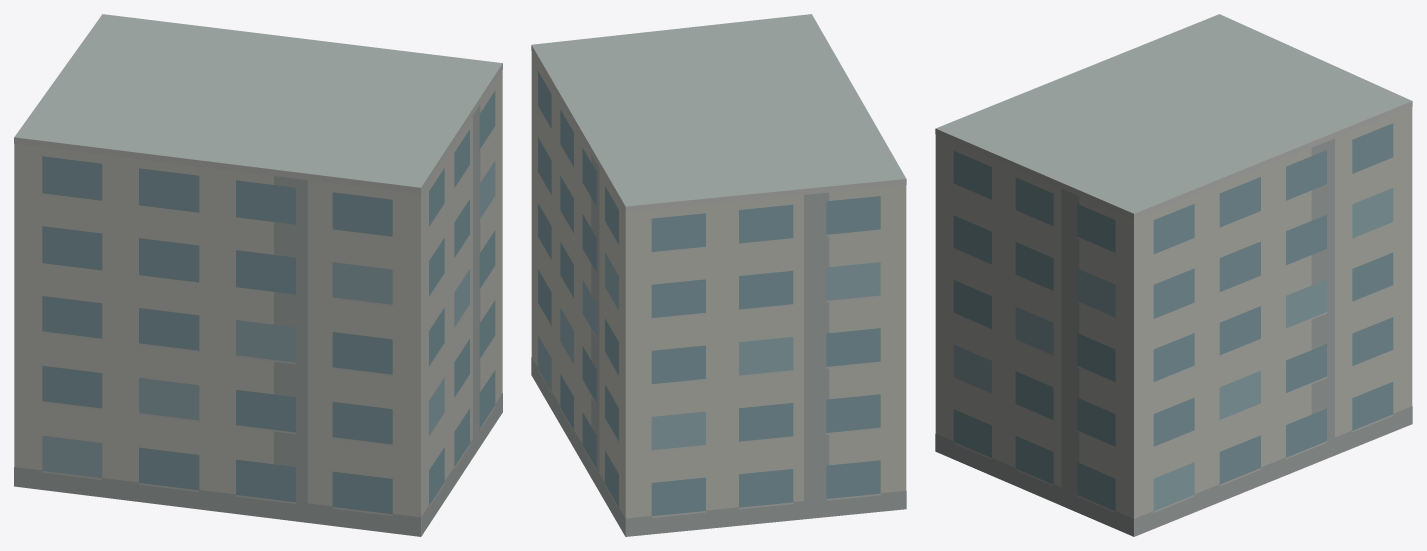
The model's file is survey-upis-32885808.glb.
3 views of the same model, side by side, from view 1: azimuth 30°, elevation 25°; view 2: azimuth 150°, elevation 25°; view 3: azimuth 270°, elevation 25° (orthographic). The views are drawn at different scales.
Parts seen in each view (by area): view 1: survey-upis-32885808.tmp; view 2: survey-upis-32885808.tmp; view 3: survey-upis-32885808.tmp.
Part boxes in pixels (x1,y1,x2,y2): survey-upis-32885808.tmp: (14,14,502,536); survey-upis-32885808.tmp: (531,14,906,536); survey-upis-32885808.tmp: (935,14,1412,536).
Size of the model in its own units: 17.52 by 13.2 by 17.67.
